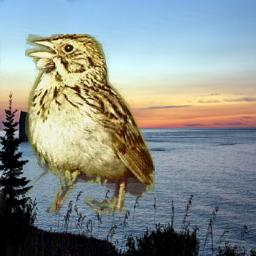Sparrow: (25, 34, 155, 215)
